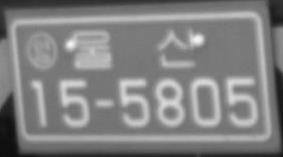-: (94, 98, 116, 109)
0: (189, 75, 223, 128)
1: (26, 78, 54, 127)
5: (117, 75, 150, 128), (58, 78, 91, 130), (225, 76, 258, 128)
8: (154, 77, 186, 129)
영: (24, 30, 59, 71)
울산_D: (72, 27, 204, 70)
